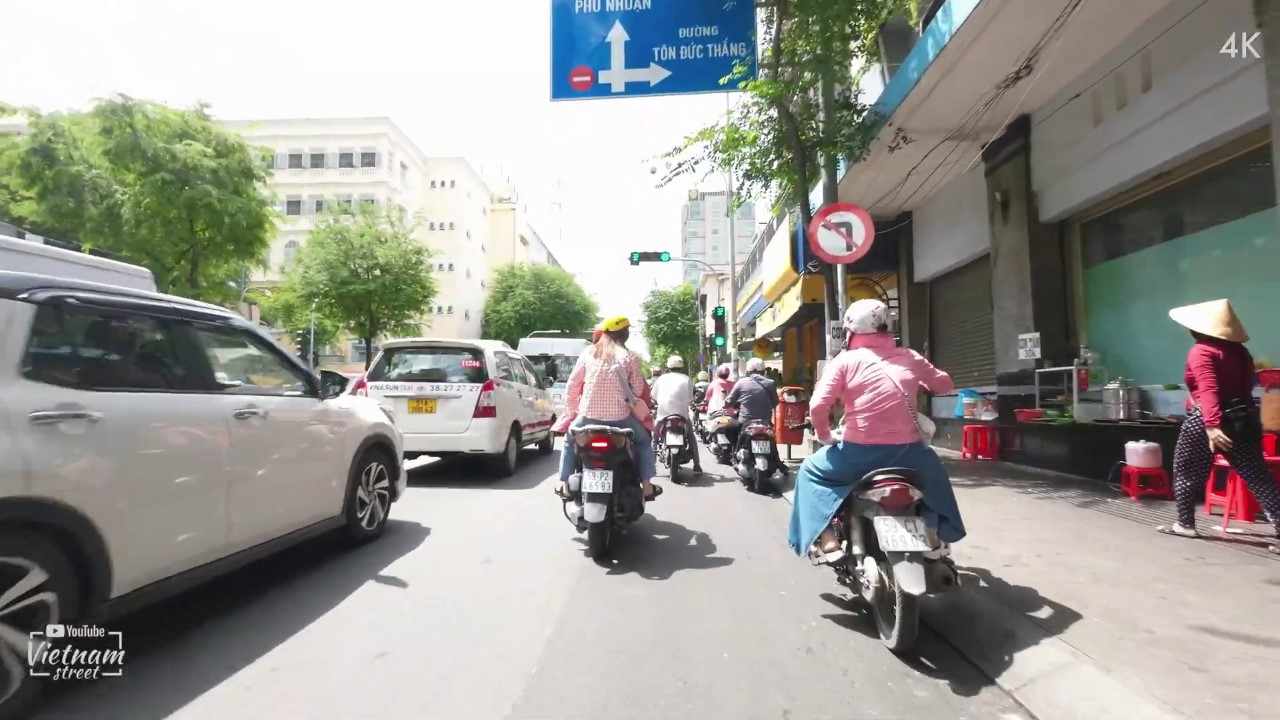cam_re_trai: (806, 201, 876, 265)
